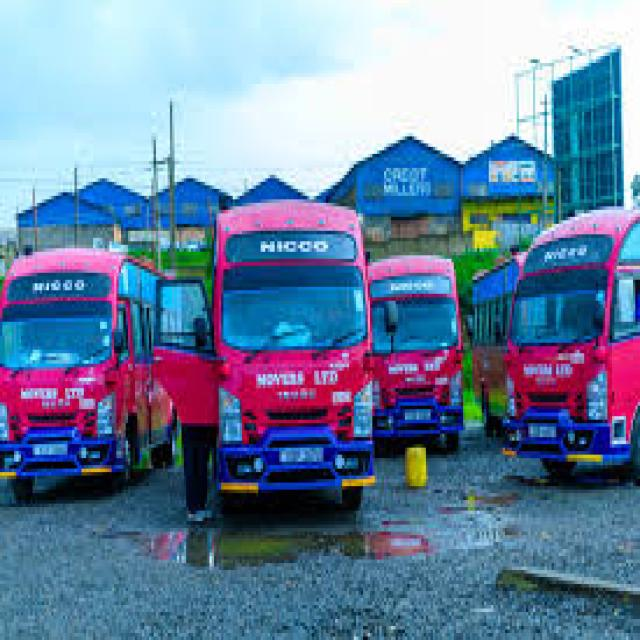bus: (173, 192, 391, 541), (0, 186, 183, 513)
